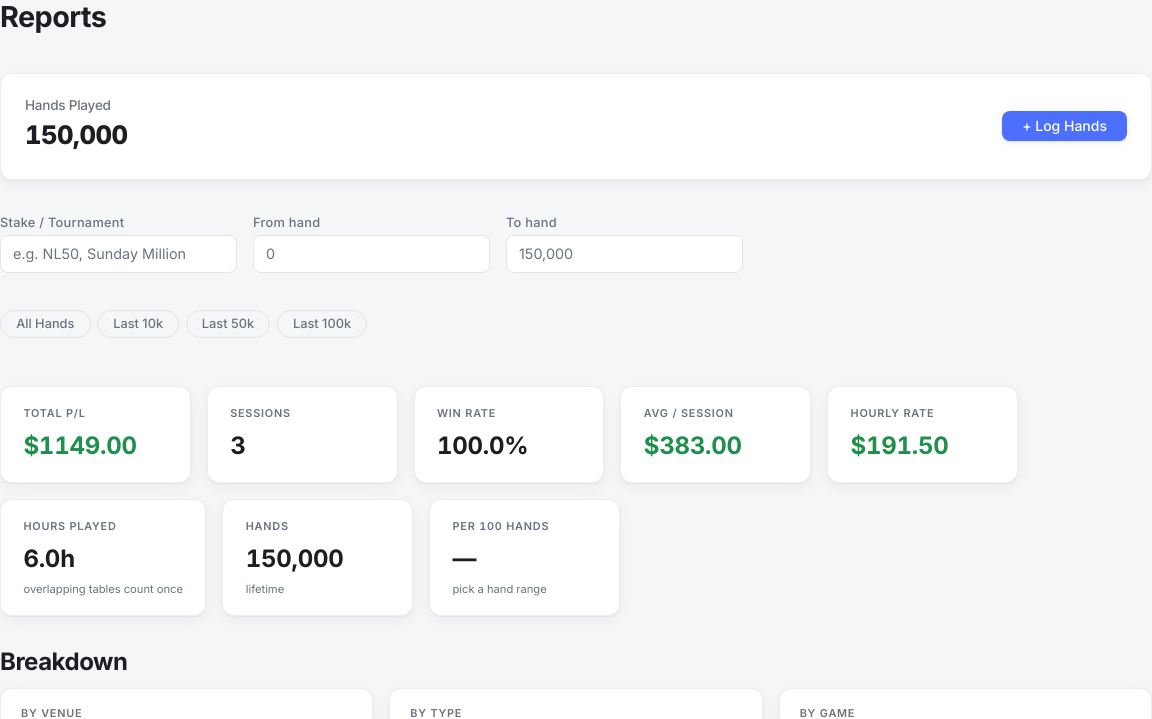
Scenario: Reports by hand range › records a new lifetime total as the hands played since
This screenshot has width=1152, height=719.
Click the button "+ Log Hands" at (1065, 126), box 1002,111 -> 1127,141
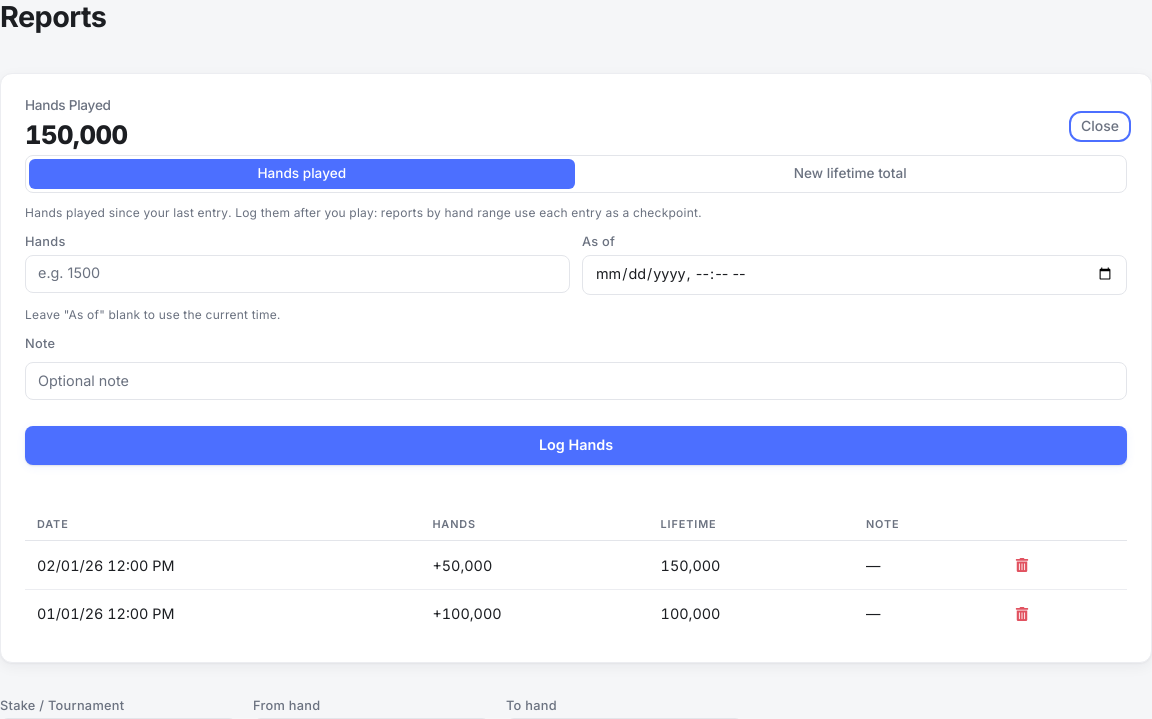
Click the button "New lifetime total" at (850, 174), box 578,158 -> 1123,188
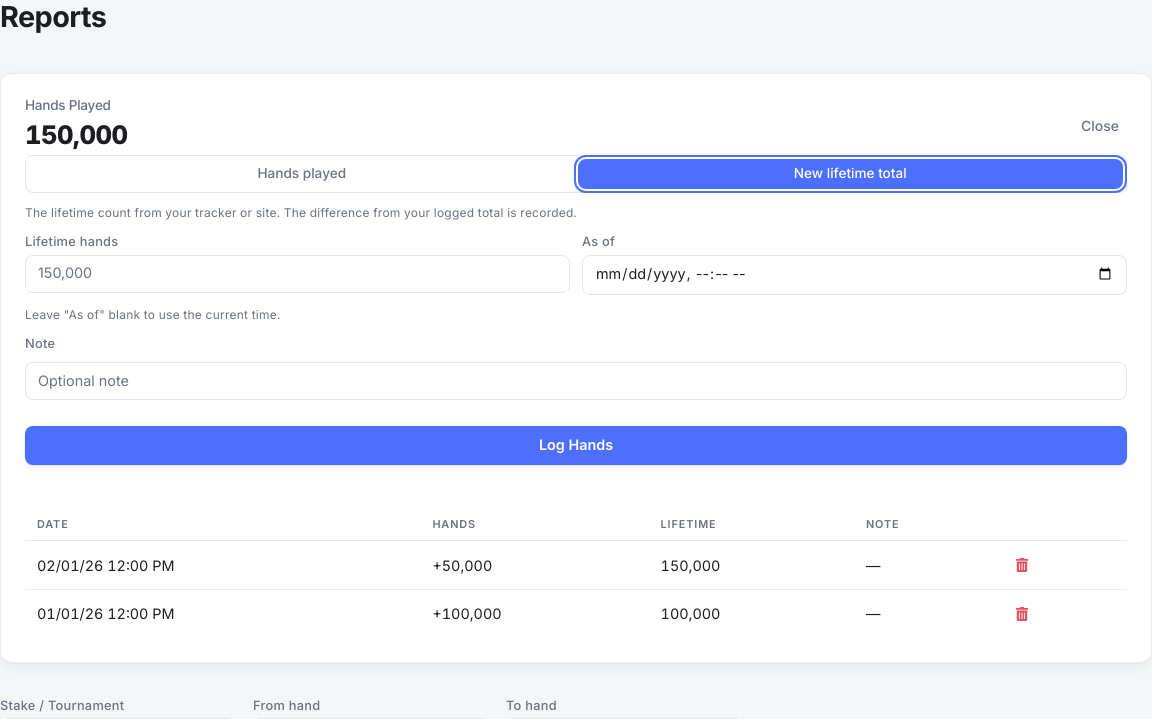
Type "160000" into the number field labelled "Lifetime hands" at (298, 274), box 25,255 -> 570,292
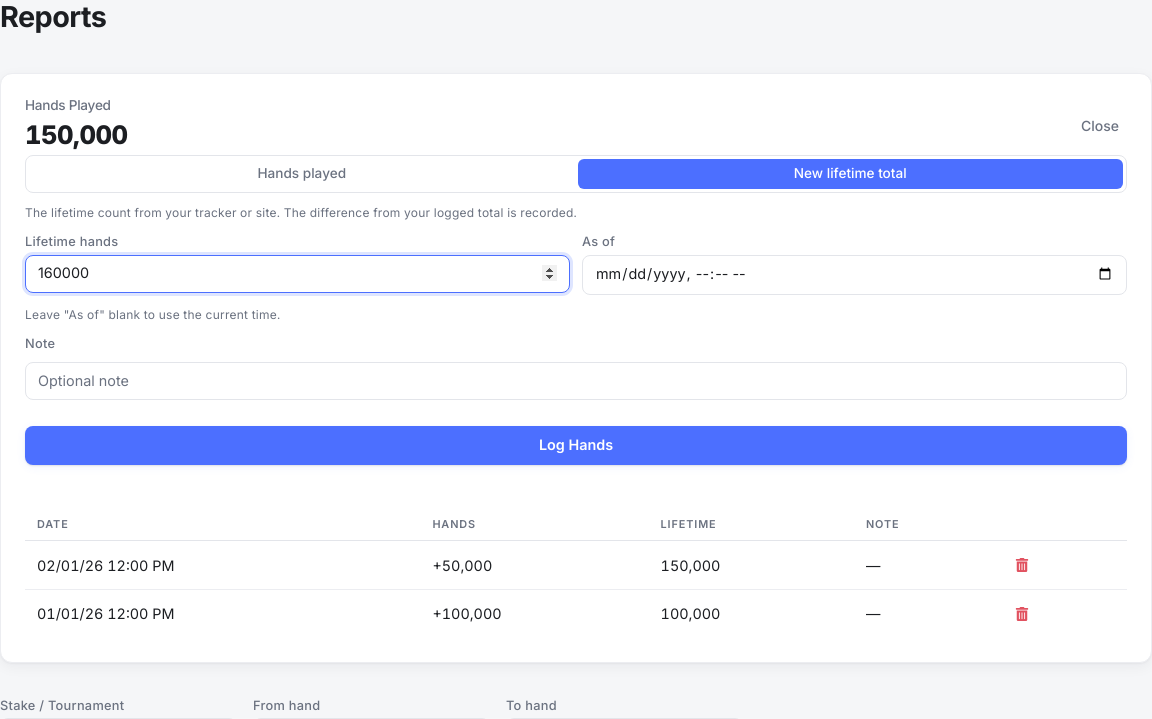
Click the button "Log Hands" at (576, 445), box 25,426 -> 1127,465
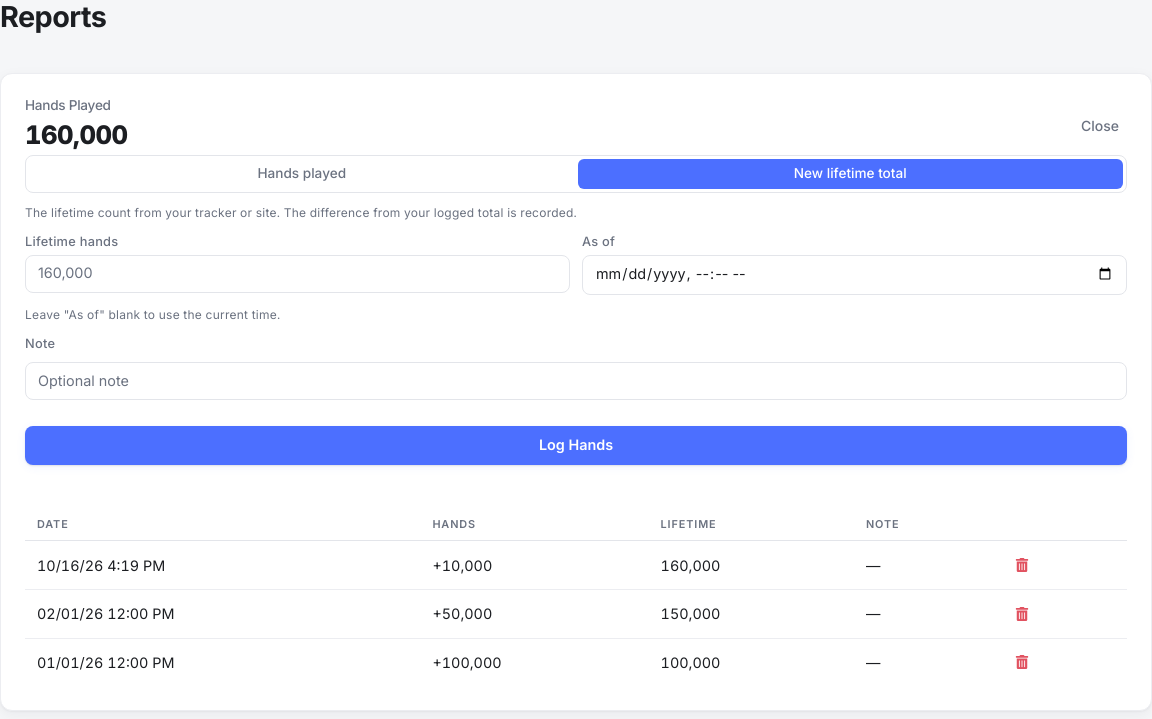
Check: the text "160,000" is shown, box 25,116 -> 127,154
